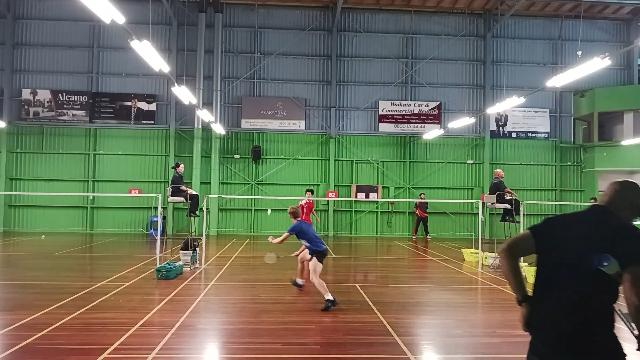Shuttlecock: (264, 208, 274, 218)
